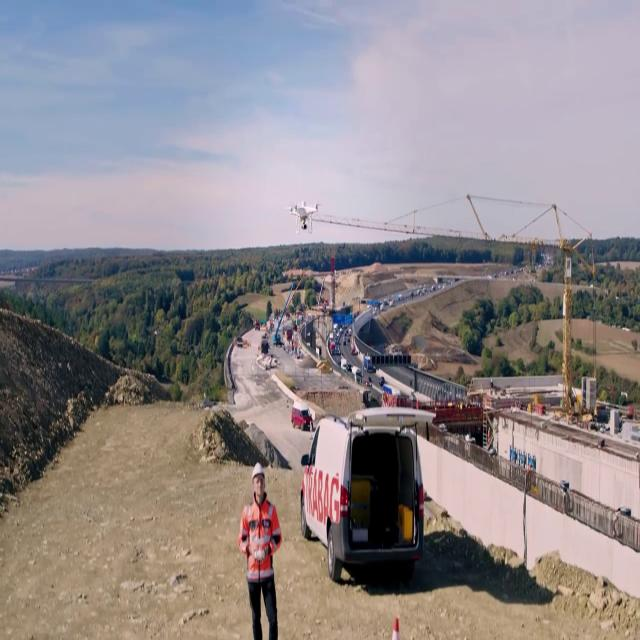drone: (286, 197, 324, 233)
